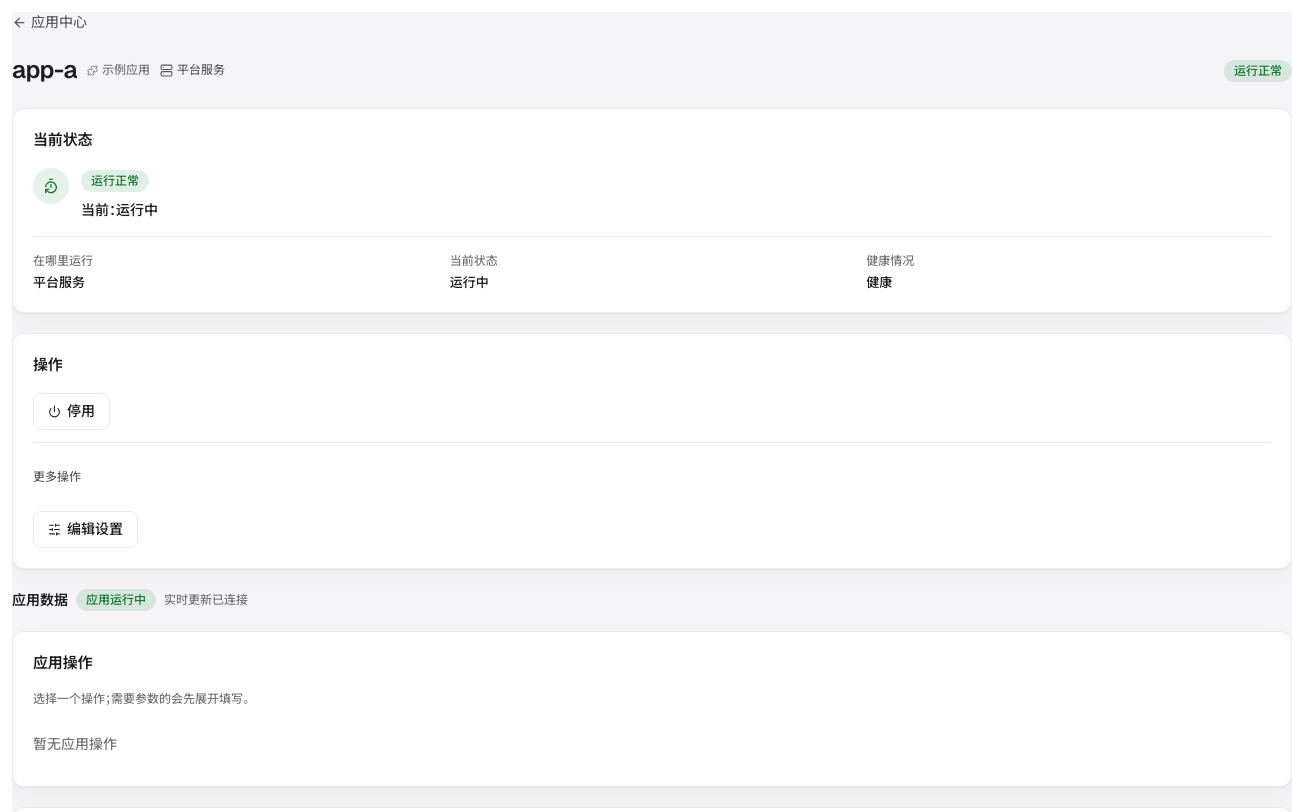
it: 运行项详情的应用入口 › 写控制保留服务端键 server/app-a，期望停用不伪造应用已停止
The image size is (1292, 812).
Expected: the text "应用运行中" is shown, [76,588,156,610]
Click the button "停用": (72, 411) [33,392,110,430]
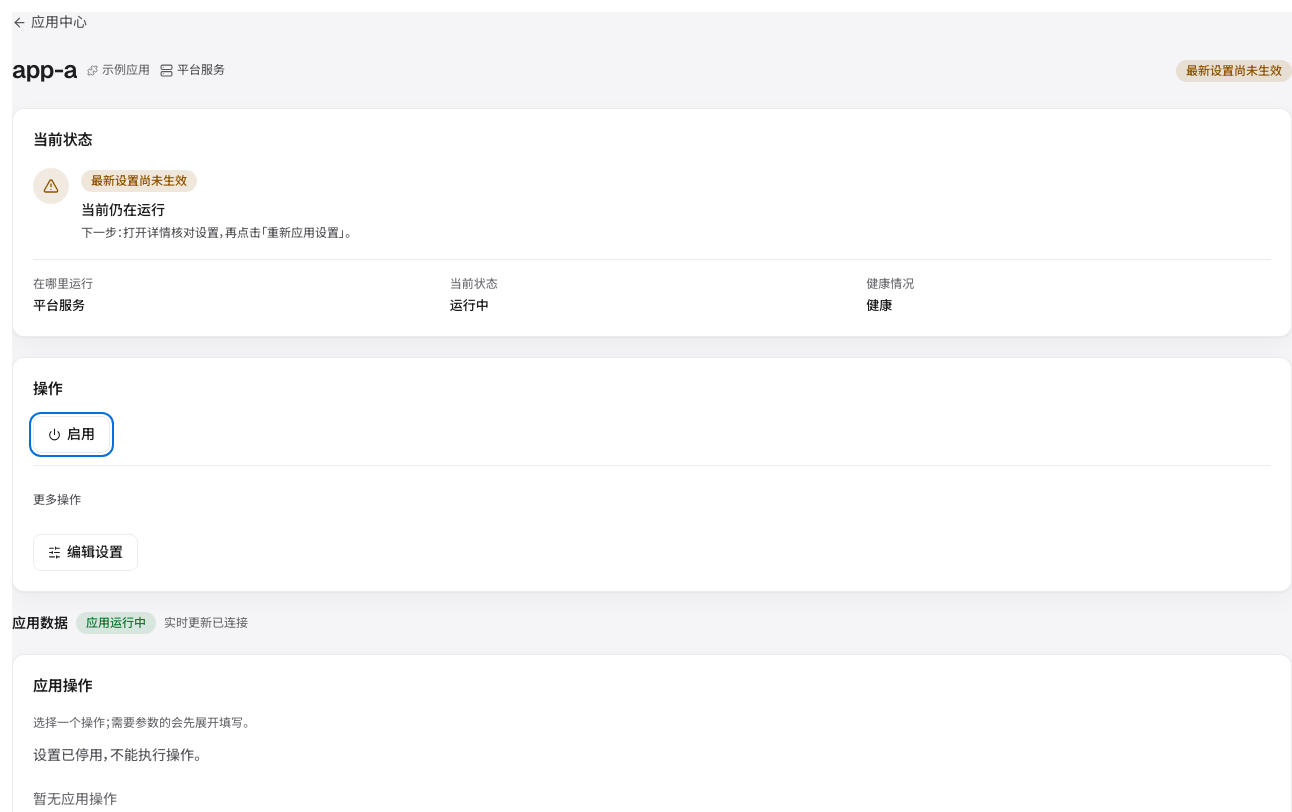
Expected: the text "应用运行中" is shown, [76,612,156,634]
Now the button "启用" is shown, box [33,416,110,453]
Now the text "设置已停用，不能执行操作。" is shown, box [33,746,201,764]
